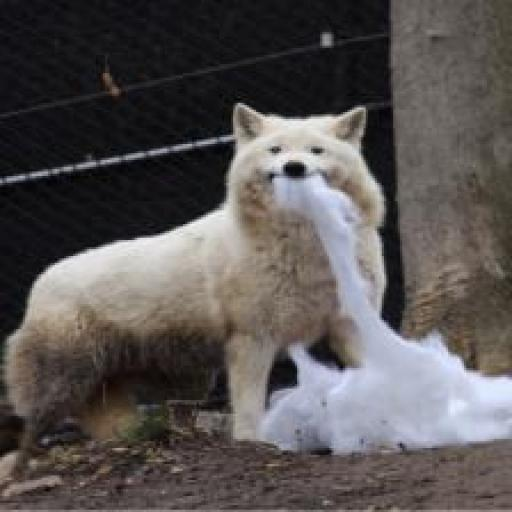wolf: (4, 101, 388, 481)
